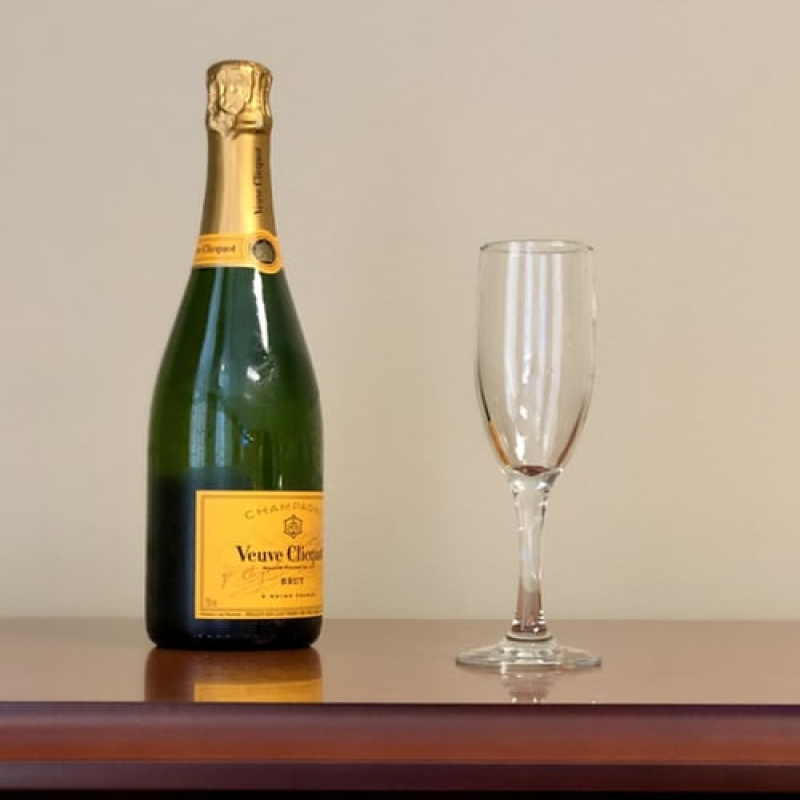wine: (144, 58, 330, 649)
